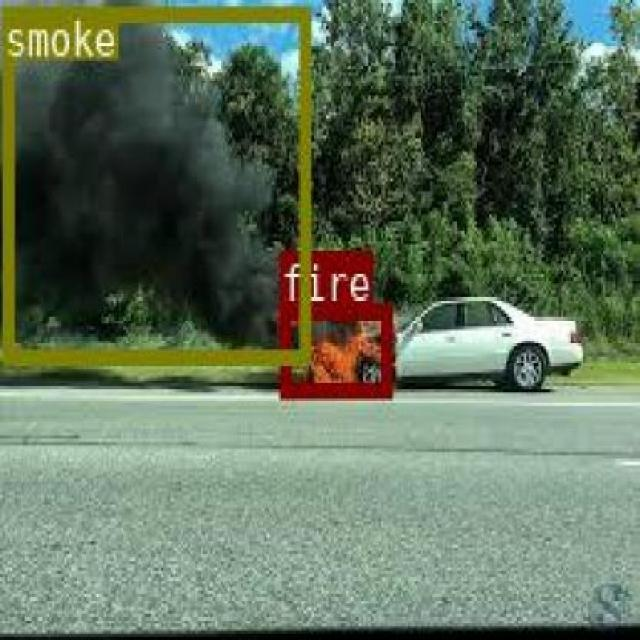Fire: (278, 302, 389, 395)
Smoke: (0, 4, 308, 360)
